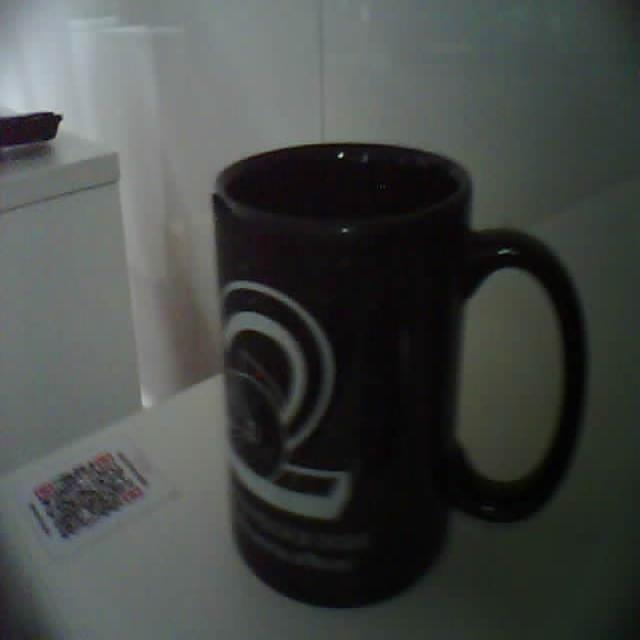caneca: (213, 143, 585, 605)
